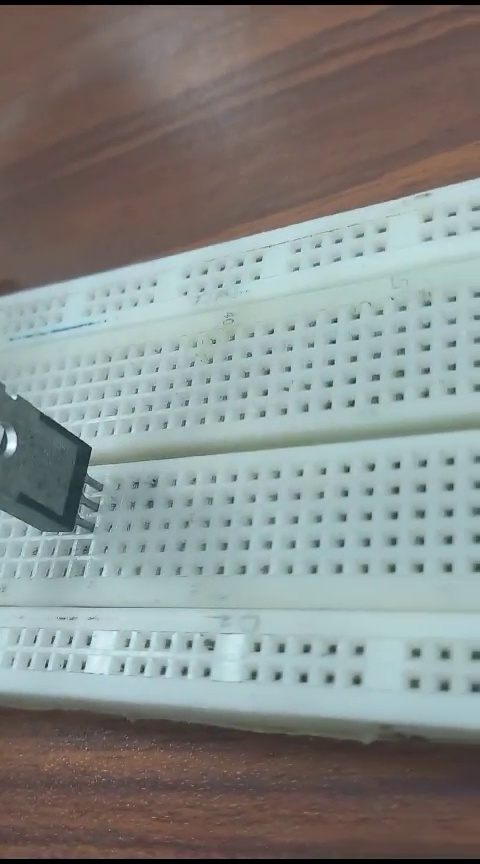voltage regulator: (2, 371, 104, 543)
